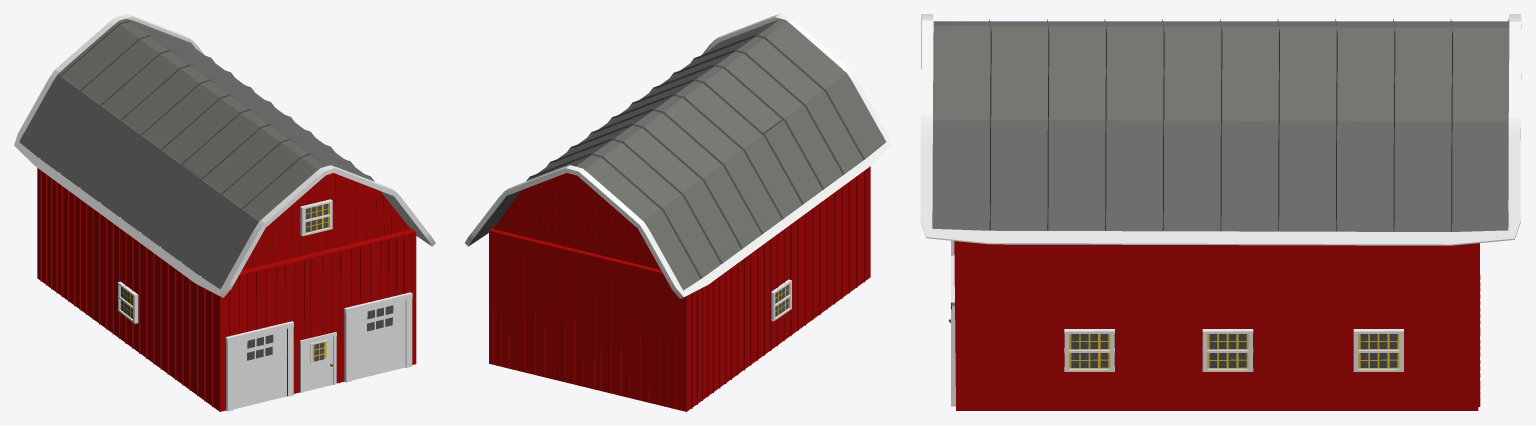
Rendered from barn.fbx.
3 renders of one model, left to right at view 1: azimuth 30°, elevation 25°; view 2: azimuth 150°, elevation 25°; view 3: azimuth 270°, elevation 25°, orthographic. The views are drawn at different scales.
Parts seen in each view (by area): view 1: pCube10; view 2: pCube10; view 3: pCube10.
Part boxes in pixels (x1,y1,x2,y2): pCube10: [14, 14, 435, 411]; pCube10: [465, 14, 891, 411]; pCube10: [920, 14, 1521, 410].
Bounding box in the file's own units: 28.65 × 28.19 × 46.96.
1 material, 1 textured.
